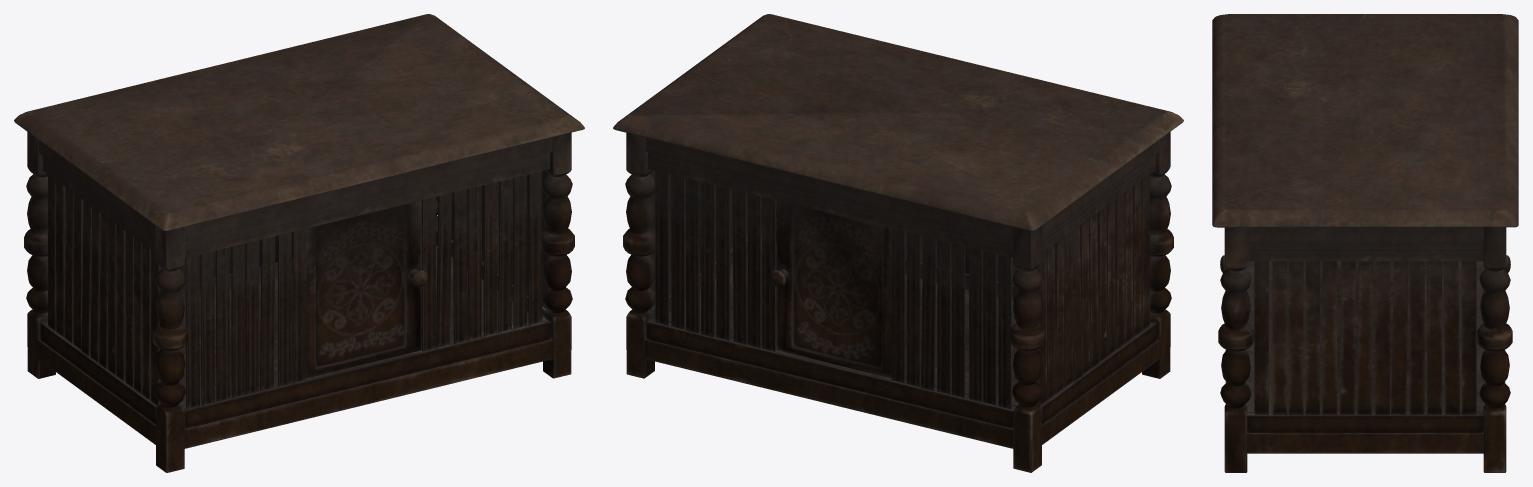
File: gallinera_table.glb
The picture shows the model from 3 angles, left to right: view 1: azimuth 30°, elevation 25°; view 2: azimuth 150°, elevation 25°; view 3: azimuth 270°, elevation 25°; orthographic projection.
Visible parts, largest first — view 1: gallinera_table; view 2: gallinera_table; view 3: gallinera_table.
Boxes of the visible parts, x1,y1,x2,y2 form: gallinera_table: (14,14,584,472); gallinera_table: (613,14,1183,472); gallinera_table: (1212,14,1518,472).
Bounding box in the file's own units: 0.8301 × 0.4878 × 0.5183.
Materials: 1 (1 with a texture image).
